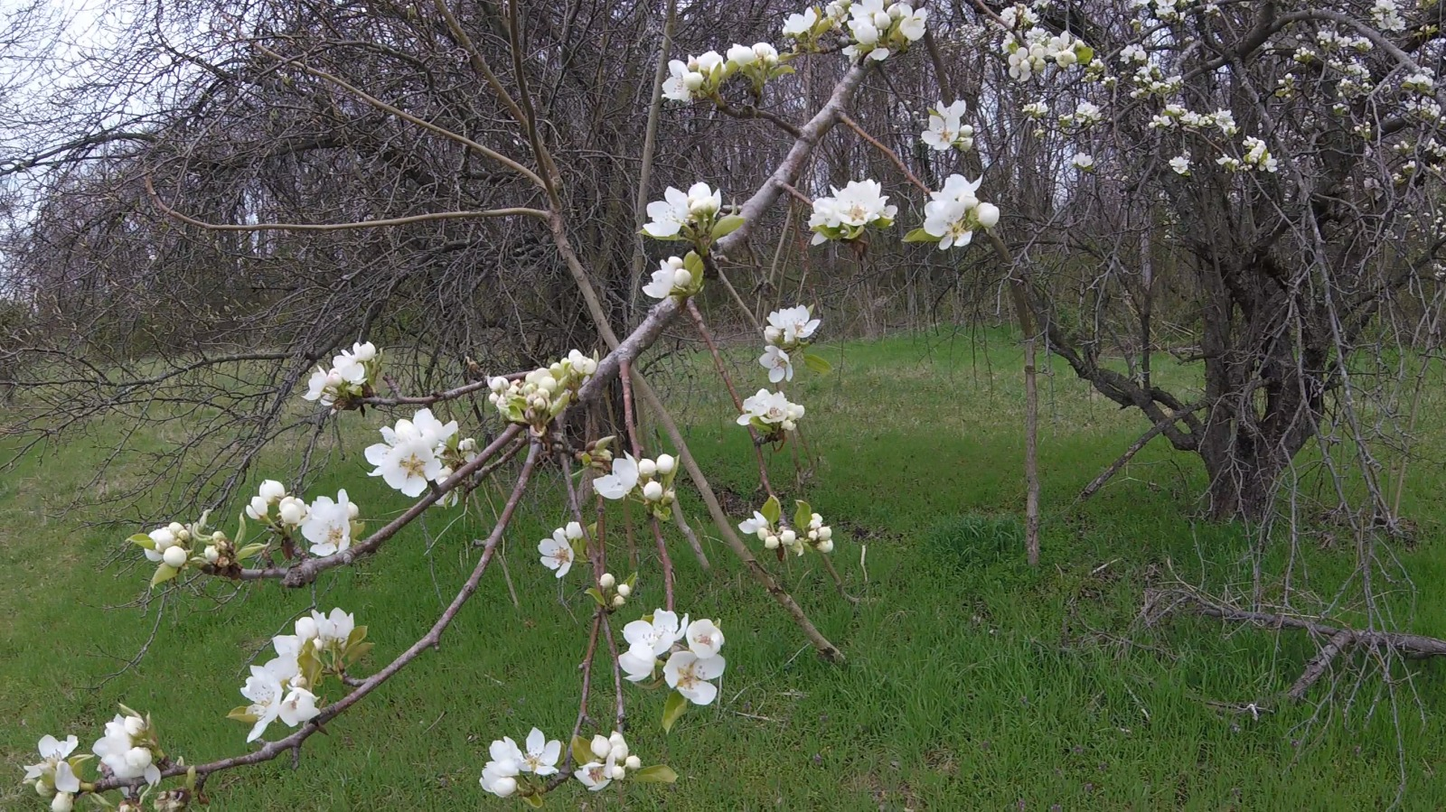flower: (240, 608, 354, 743), (619, 609, 726, 705), (247, 481, 359, 557), (365, 408, 459, 498), (662, 42, 779, 105), (485, 350, 599, 406), (92, 714, 171, 788), (924, 174, 1000, 250), (480, 727, 561, 798), (759, 303, 821, 383), (1001, 27, 1086, 85), (826, 0, 932, 45), (807, 180, 898, 231), (302, 341, 379, 401), (643, 182, 722, 238), (23, 735, 80, 812), (594, 451, 675, 500), (575, 732, 641, 791), (737, 388, 805, 431), (920, 100, 973, 153), (539, 522, 583, 578), (738, 510, 796, 548), (643, 257, 692, 299), (145, 522, 193, 564), (1370, 0, 1407, 33), (1166, 102, 1213, 126), (783, 7, 818, 37), (808, 514, 834, 554), (1206, 107, 1241, 136), (1244, 136, 1267, 163), (1075, 98, 1102, 120), (1121, 44, 1147, 64), (1064, 153, 1094, 168), (641, 479, 663, 499), (1169, 157, 1191, 174), (866, 49, 890, 61), (1263, 154, 1278, 173), (812, 231, 828, 247), (599, 574, 615, 588), (617, 583, 632, 596), (1153, 116, 1172, 126), (165, 765, 174, 770)
